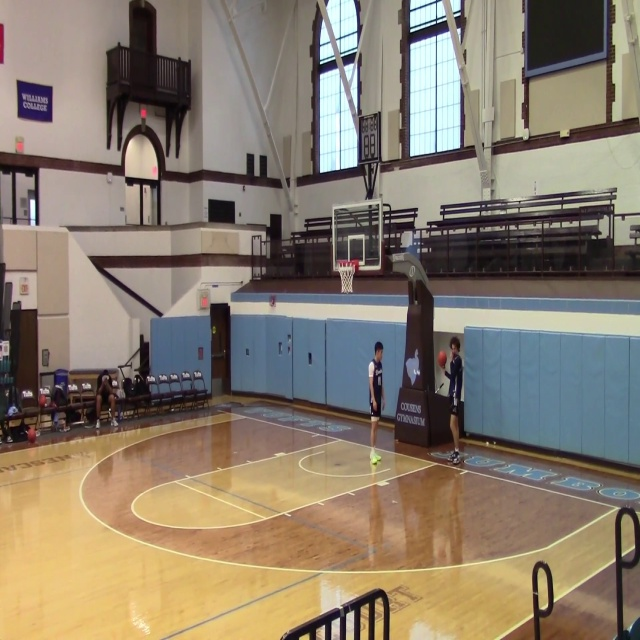Basketball: (27, 428, 36, 443), (438, 351, 446, 367)
